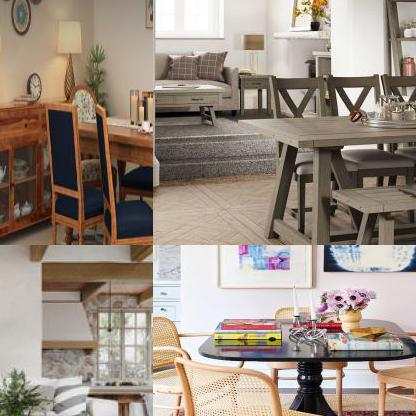table: (224, 104, 415, 244), (194, 314, 415, 415), (55, 107, 152, 244)
